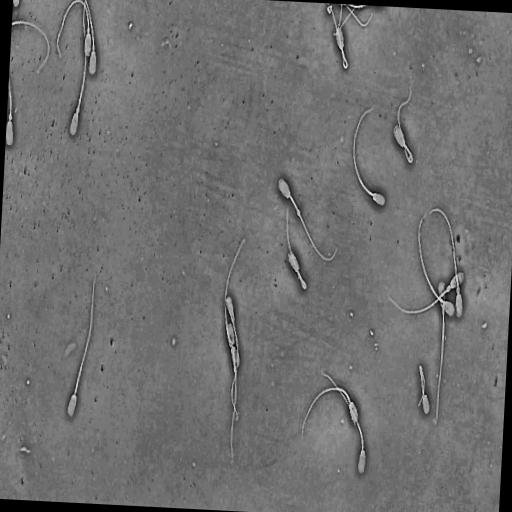distal-droplet: (233, 365, 237, 373), (297, 209, 300, 217)
folded-tail: (287, 210, 306, 290), (398, 91, 413, 163), (328, 4, 343, 55), (418, 366, 425, 406), (342, 51, 348, 69), (405, 147, 412, 161), (423, 378, 424, 392)
loose-tail: (342, 4, 374, 30)
normal: (276, 174, 339, 263), (65, 265, 99, 422), (321, 372, 367, 477), (417, 211, 457, 319), (428, 204, 464, 320), (387, 266, 465, 315), (352, 104, 387, 208), (301, 384, 360, 441), (223, 234, 247, 369), (68, 0, 89, 139), (55, 0, 93, 60), (224, 294, 240, 422), (285, 205, 308, 292), (391, 87, 415, 166), (434, 278, 446, 430), (225, 321, 237, 462), (327, 3, 349, 71), (83, 0, 97, 78), (417, 359, 431, 416), (5, 78, 14, 148)
proximal-droplet: (456, 285, 460, 294), (446, 285, 451, 292), (229, 341, 233, 348), (231, 314, 234, 322), (76, 107, 79, 114), (9, 114, 12, 120), (87, 28, 89, 34)
